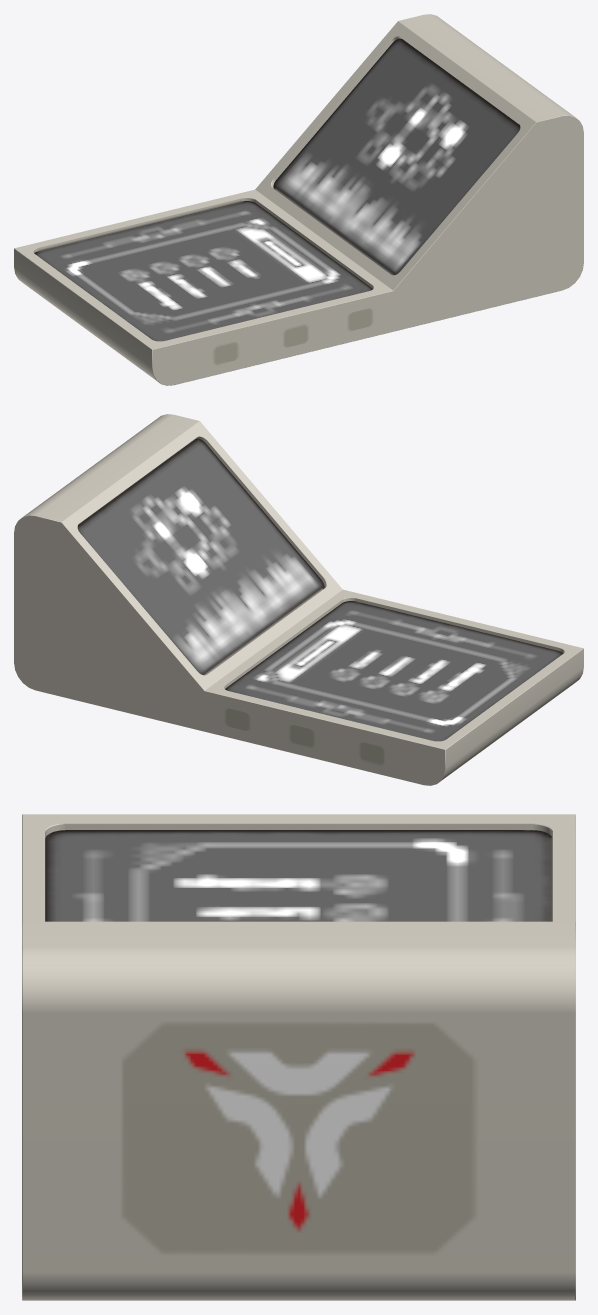
The model's file is SM_HandSensor.fbx.
3 renders of one model, top to bottom at view 1: azimuth 30°, elevation 25°; view 2: azimuth 150°, elevation 25°; view 3: azimuth 270°, elevation 25°, orthographic. The views are drawn at different scales.
Visible parts, largest first — view 1: SM_HandSensor_LOD0; view 2: SM_HandSensor_LOD0; view 3: SM_HandSensor_LOD0.
Part boxes in pixels (left/top/right/bottom): SM_HandSensor_LOD0: left=14, top=14, right=583, bottom=385; SM_HandSensor_LOD0: left=14, top=414, right=583, bottom=785; SM_HandSensor_LOD0: left=22, top=814, right=575, bottom=1300.
Size of the model in its own units: 67.37 by 26.05 by 37.42.
1 material, 1 textured.
